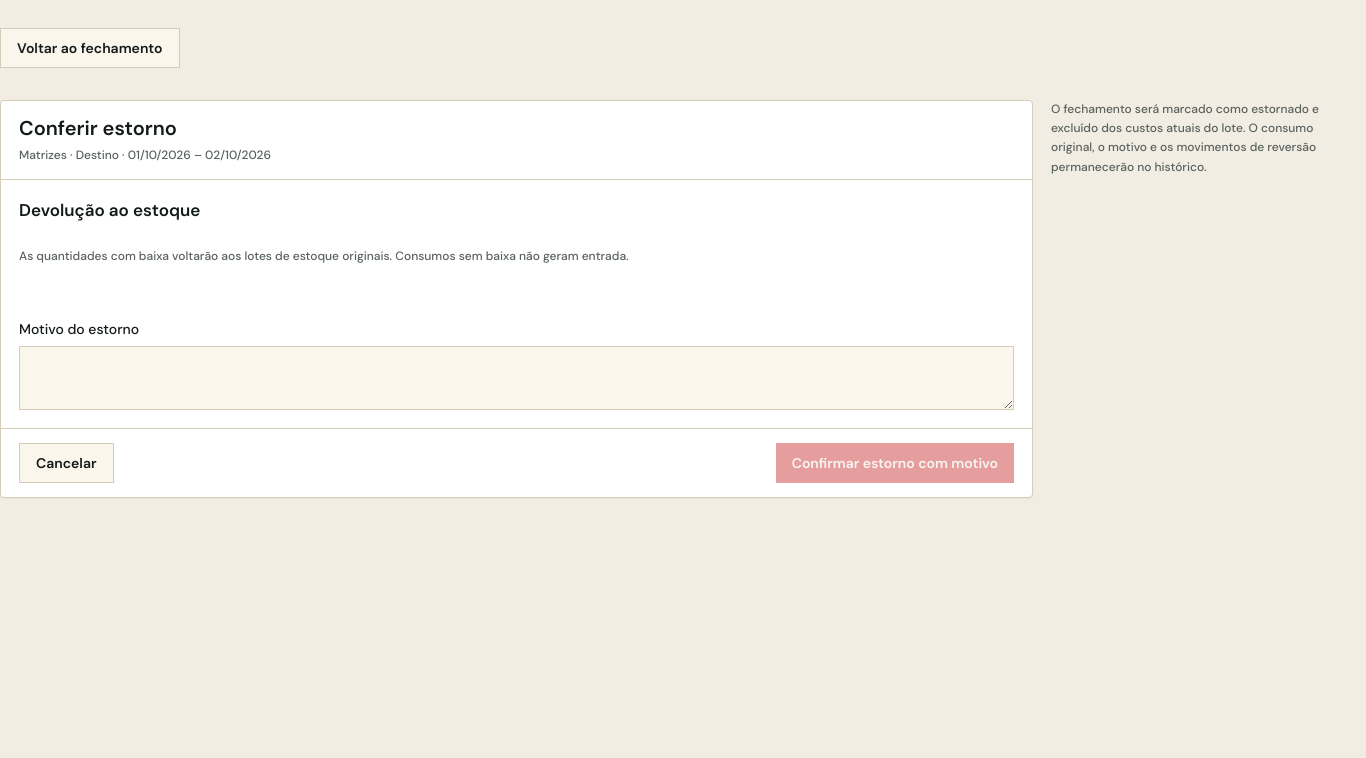
Scenario: detalhe e formulário de estorno › abre revisão própria sem os cards de consulta e conserva o motivo ao falhar
Check: the text "Consumo e estoque" is not shown
Check: the button "Confirmar estorno com motivo" is disabled, box [776, 443, 1014, 483]
Type "Revisão conferida" into the text box labelled "Motivo do estorno".
click(516, 378); type("Revisão conferida")  # box [19, 346, 1014, 410]
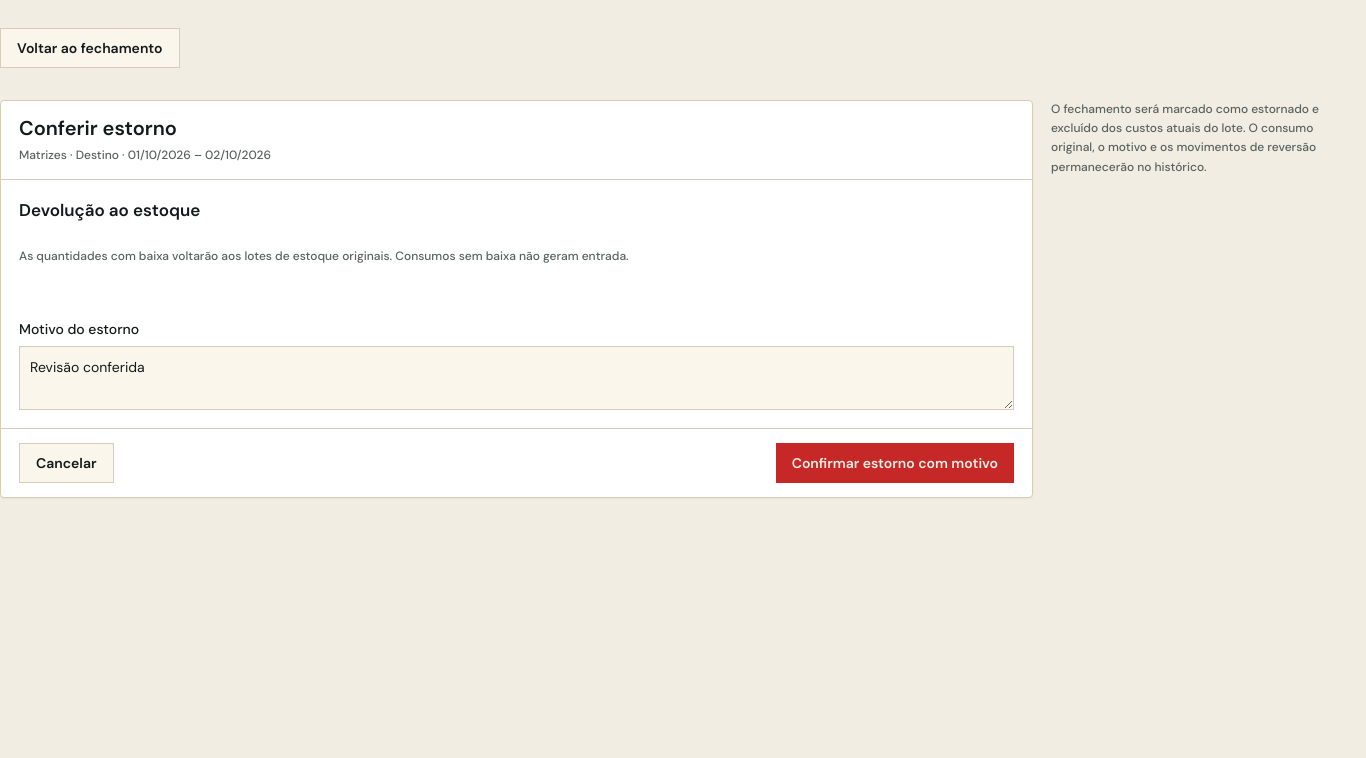
Click the button "Confirmar estorno com motivo".
click(895, 463)  # box [776, 443, 1014, 483]
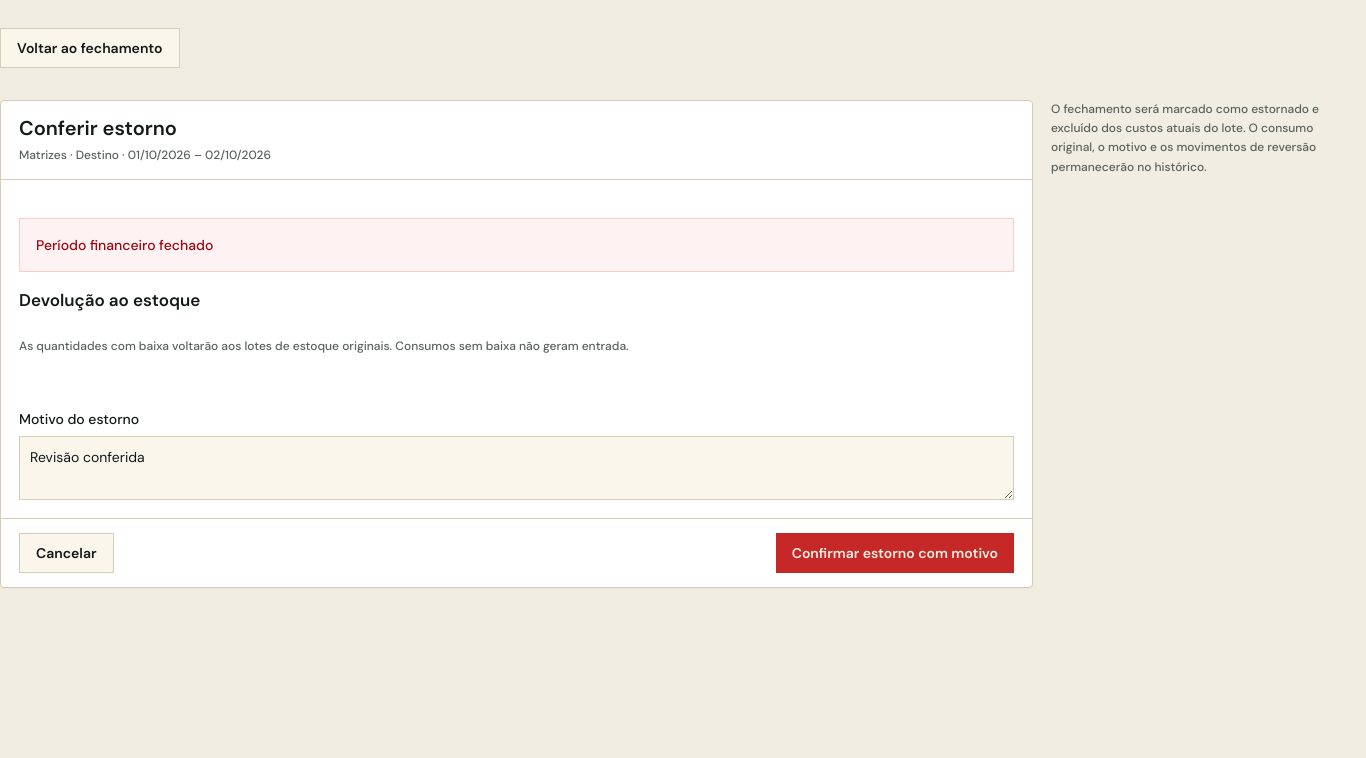
Check: the text "Período financeiro fechado" is shown, box [19, 218, 1014, 272]
Click the button "Confirmar estorno com motivo".
click(895, 553)  # box [776, 533, 1014, 573]
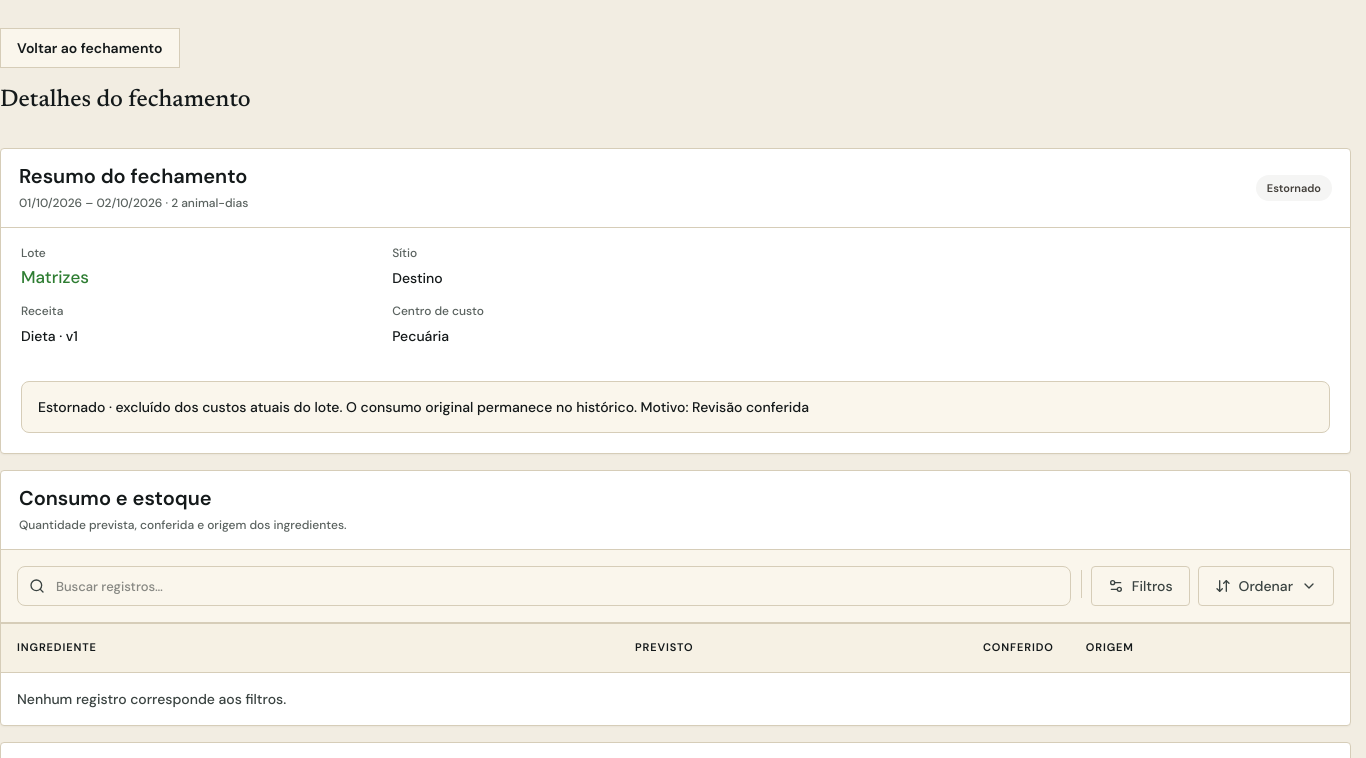
Check: the label labelled "Motivo do estorno" is gone
Check: the text "excluído dos custos atuais" is shown, box [38, 398, 637, 416]
